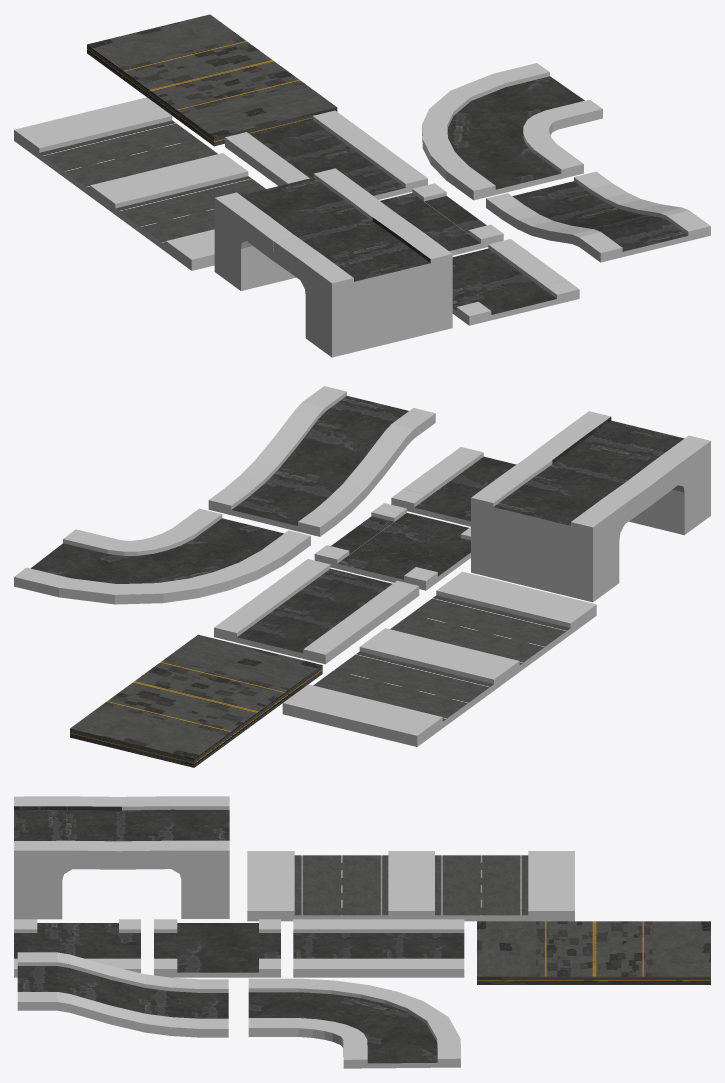
3 views of the same model, one above another, from view 1: azimuth 30°, elevation 25°; view 2: azimuth 150°, elevation 25°; view 3: azimuth 270°, elevation 25° (orthographic). The views are drawn at different scales.
Visible parts, largest first — view 1: Cubo.002, Cubo.001, Cubo.003, Cube.002, Cubo, Cube.003, Cube, Cube.004, Cube.001; view 2: Cubo.002, Cubo, Cubo.003, Cube.003, Cube.002, Cube, Cubo.001, Cube.001, Cube.004; view 3: Cubo.002, Cubo.003, Cube.002, Cube.003, Cubo.001, Cubo, Cube, Cube.001, Cube.004.
Boxes of the visible parts, box(x1,y1,x2,y2) form: Cubo.002: box(14, 97, 265, 270); Cubo.001: box(273, 211, 452, 357); Cubo.003: box(87, 14, 337, 146); Cube.002: box(422, 63, 602, 200); Cubo: box(214, 168, 393, 290); Cube.003: box(486, 171, 710, 262); Cube: box(225, 110, 427, 199); Cube.004: box(452, 239, 579, 325); Cube.001: box(380, 183, 503, 255); Cubo.002: box(282, 571, 596, 746); Cubo: box(471, 455, 652, 602); Cubo.003: box(70, 634, 322, 767); Cube.003: box(208, 386, 435, 536); Cube.002: box(14, 508, 310, 604); Cube: box(214, 559, 419, 664); Cubo.001: box(530, 411, 710, 535); Cube.001: box(314, 503, 470, 590); Cube.004: box(391, 447, 516, 526); Cubo.002: box(247, 851, 574, 921); Cubo.003: box(477, 921, 710, 984); Cube.002: box(248, 978, 460, 1068); Cube.003: box(17, 952, 228, 1037); Cubo.001: box(14, 796, 121, 919); Cubo: box(122, 796, 229, 918); Cube: box(293, 919, 464, 977); Cube.001: box(154, 919, 280, 977); Cube.004: box(14, 919, 140, 977).
Size of the model in its own units: 42.24 by 6.93 by 59.72.
